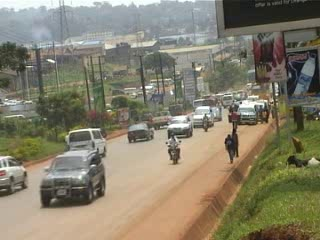Car: (37, 146, 106, 208), (0, 152, 28, 195), (166, 112, 195, 142), (126, 120, 155, 144), (193, 103, 216, 129), (211, 104, 222, 120)
Motorcycle: (164, 132, 184, 166), (201, 112, 211, 132)
